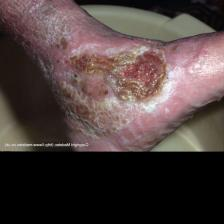Wound: (53, 50, 174, 110)
